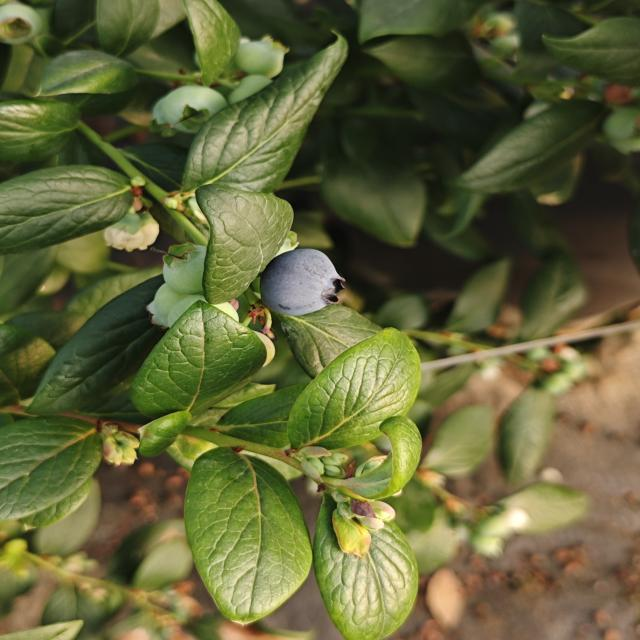ripe: (240, 236, 350, 315)
